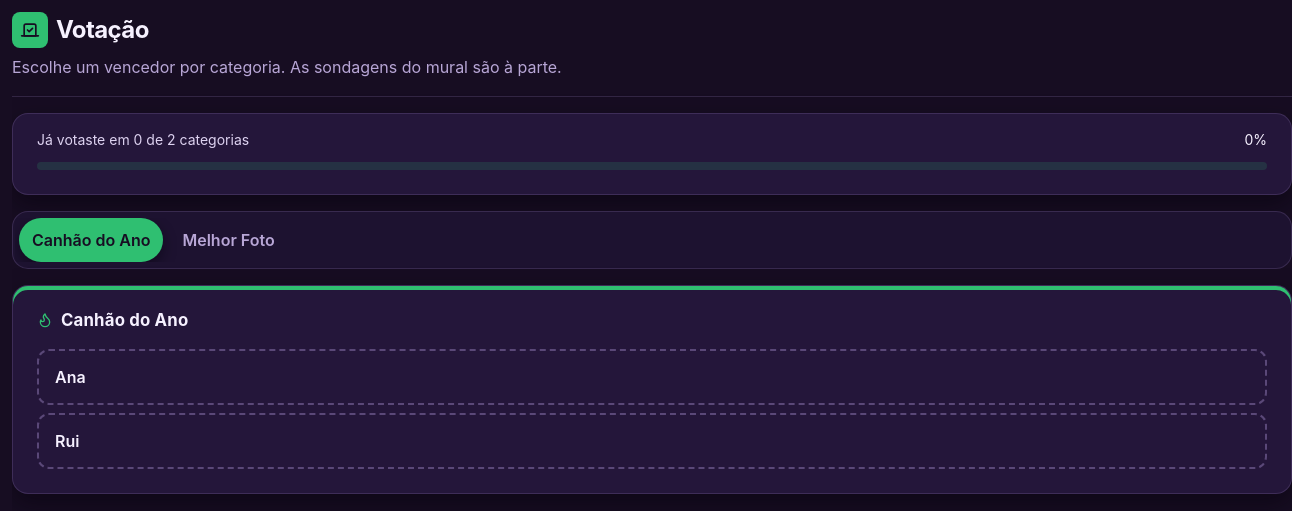
CanhoesOfficialVotingModule › undoes the vote and warns when the server refuses it
The width and height of the screenshot is (1292, 511).
Click the button "Rui" at (67, 441), box [37,412,1267,468]
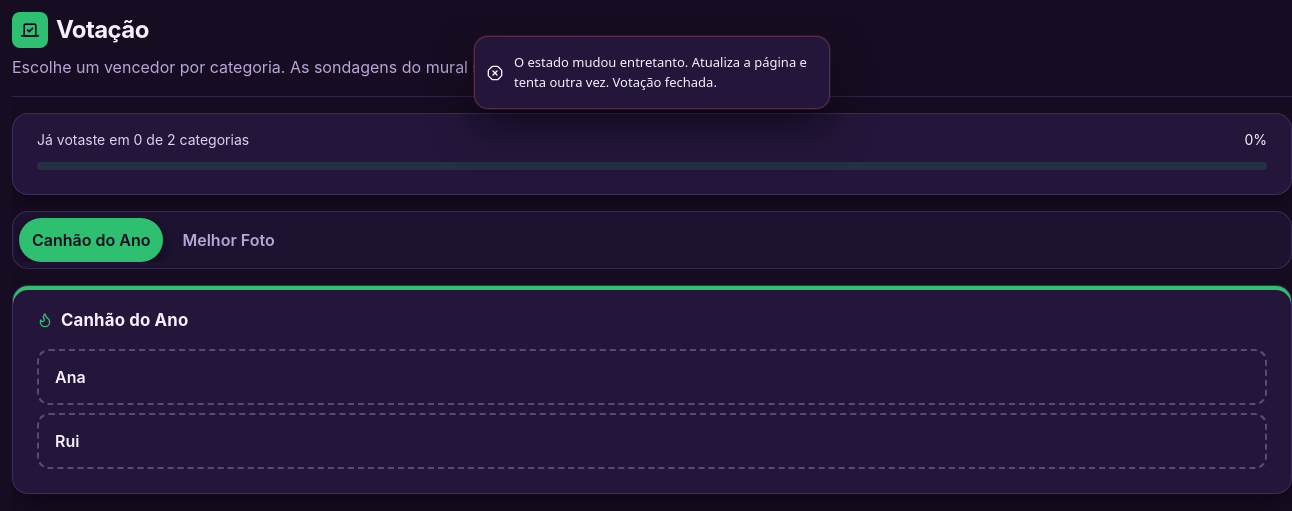
Check: the text "Já votaste em 0 de 2 categorias" is shown, box [37,130,249,150]
Check: the text "Votação fechada" is shown, box [514,53,807,90]
